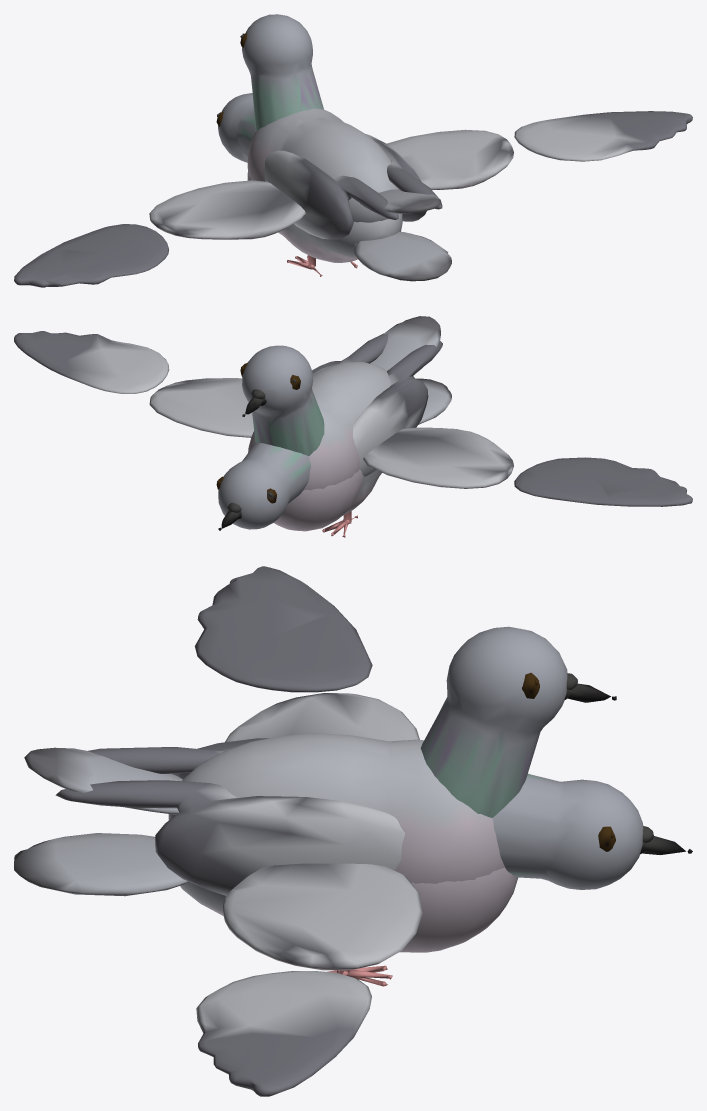
The model's file is pigeon_parts.glb.
The picture shows the model from 3 angles, top to bottom: view 1: azimuth 30°, elevation 25°; view 2: azimuth 150°, elevation 25°; view 3: azimuth 270°, elevation 25°; orthographic projection. The views are drawn at different scales.
Visible parts, largest first — view 1: BODY, WING_L, HEAD, WINGTIP_R__WING_R, WINGTIP_L__WING_L, BODY1, WING_R, TAIL.001, BODY.001, HEAD.001, BODY3, TAIL; view 2: WING_L, HEAD, WINGTIP_L__WING_L, WINGTIP_R__WING_R, BODY, HEAD.001, BODY1, WING_R, BODY.001, TAIL, TAIL.001, BODY3; view 3: BODY, BODY3, HEAD, WING_R, WINGTIP_R__WING_R, WINGTIP_L__WING_L, HEAD.001, TAIL.001, BODY.001, WING_L, TAIL, BODY1.
Part boxes in pixels (left/top/right/bottom): BODY: left=247, top=108, right=398, bottom=222; WING_L: left=149, top=180, right=305, bottom=239; HEAD: left=242, top=14, right=323, bottom=131; WINGTIP_R__WING_R: left=514, top=111, right=692, bottom=161; WINGTIP_L__WING_L: left=14, top=224, right=168, bottom=287; BODY1: left=264, top=150, right=398, bottom=239; WING_R: left=387, top=129, right=513, bottom=189; TAIL.001: left=353, top=231, right=451, bottom=281; BODY.001: left=247, top=171, right=402, bottom=262; HEAD.001: left=218, top=93, right=255, bottom=162; BODY3: left=366, top=134, right=442, bottom=221; TAIL: left=360, top=189, right=440, bottom=213; WING_L: left=363, top=427, right=513, bottom=488; HEAD: left=242, top=345, right=324, bottom=455; WINGTIP_L__WING_L: left=514, top=457, right=692, bottom=506; WINGTIP_R__WING_R: left=14, top=331, right=169, bottom=393; BODY: left=248, top=362, right=391, bottom=490; HEAD.001: left=218, top=442, right=310, bottom=529; BODY1: left=353, top=341, right=442, bottom=477; WING_R: left=149, top=378, right=253, bottom=437; BODY.001: left=274, top=469, right=381, bottom=531; TAIL: left=370, top=316, right=440, bottom=375; TAIL.001: left=416, top=378, right=451, bottom=424; BODY3: left=312, top=333, right=387, bottom=374; BODY: left=168, top=733, right=504, bottom=883; BODY3: left=55, top=780, right=404, bottom=895; HEAD: left=420, top=626, right=567, bottom=817; WING_R: left=223, top=863, right=422, bottom=970; WINGTIP_R__WING_R: left=196, top=971, right=371, bottom=1096; WINGTIP_L__WING_L: left=194, top=566, right=372, bottom=692; HEAD.001: left=492, top=773, right=643, bottom=889; TAIL.001: left=14, top=833, right=187, bottom=896; BODY.001: left=180, top=867, right=517, bottom=952; WING_L: left=225, top=693, right=419, bottom=742; TAIL: left=24, top=747, right=182, bottom=814; BODY1: left=88, top=738, right=268, bottom=778.
Size of the model in its own units: 0.6862 by 0.2039 by 0.3752.
